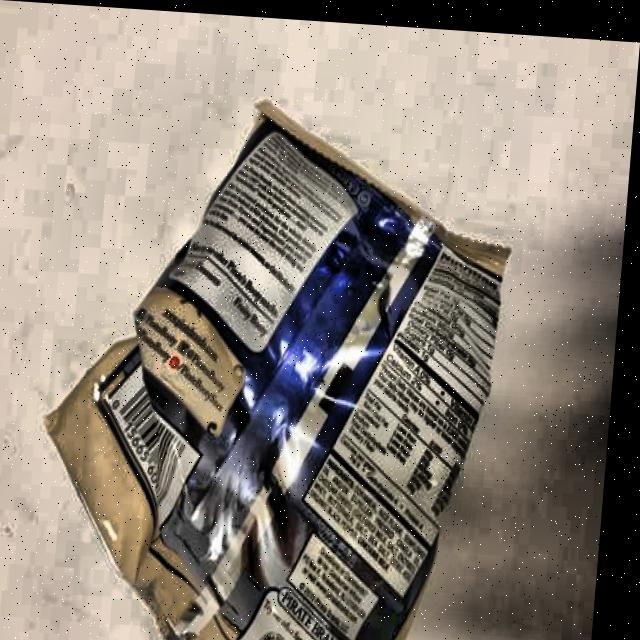plastic: (0, 48, 560, 640)
